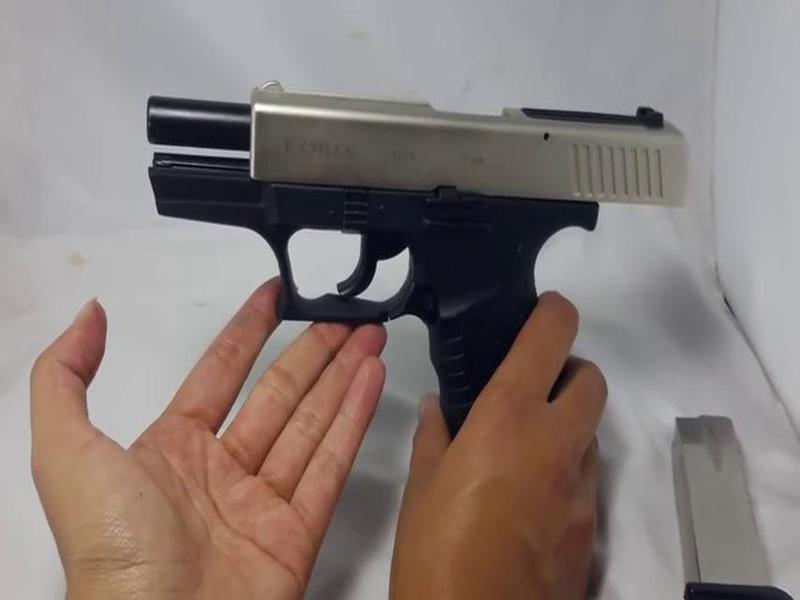Pistola: (131, 59, 688, 471)
